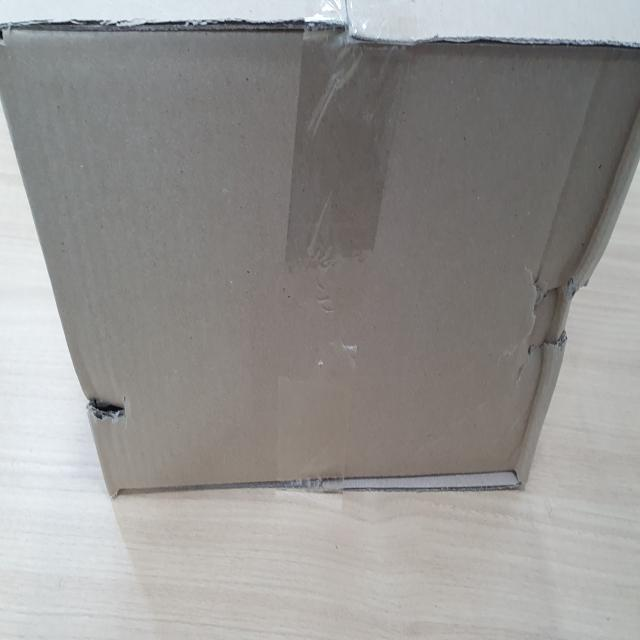hole: (519, 259, 578, 360), (84, 389, 132, 433)
